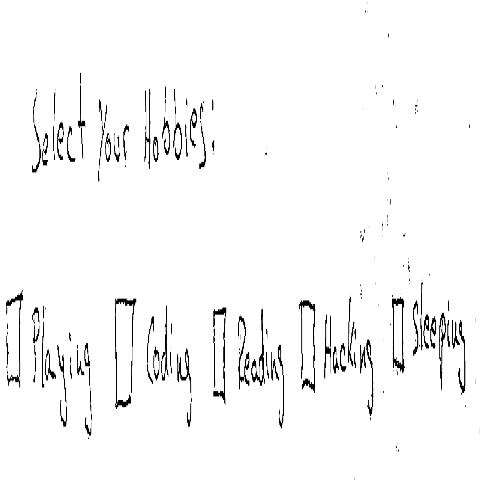Check Box: (5, 277, 96, 447), (114, 280, 195, 437), (391, 269, 468, 426), (298, 280, 376, 422), (212, 293, 287, 437)
